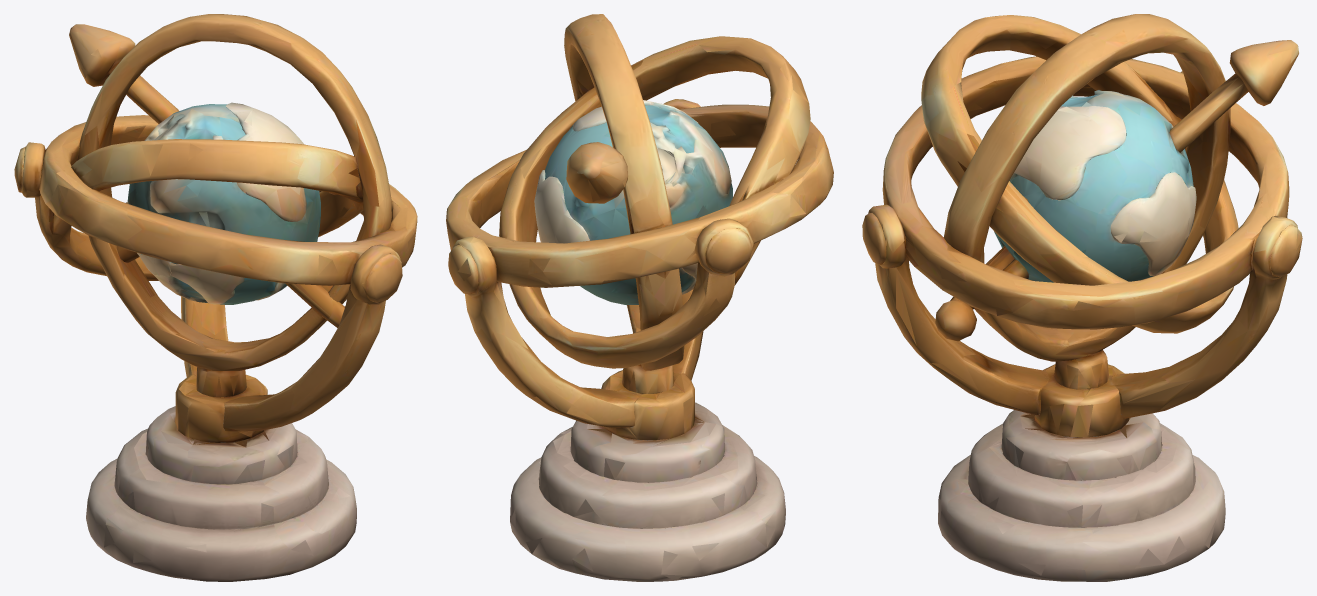
3 renders of one model, left to right at view 1: azimuth 30°, elevation 25°; view 2: azimuth 150°, elevation 25°; view 3: azimuth 270°, elevation 25°, orthographic. The views are drawn at different scales.
Parts seen in each view (by area): view 1: P06-mini-armillary-sphere; view 2: P06-mini-armillary-sphere; view 3: P06-mini-armillary-sphere.
Part boxes in pixels (<box>): P06-mini-armillary-sphere: <box>14,14,417,581</box>; P06-mini-armillary-sphere: <box>446,14,833,581</box>; P06-mini-armillary-sphere: <box>862,14,1302,581</box>.
Size of the model in its own units: 1.06 by 1.5 by 1.16.
1 material, 1 textured.
